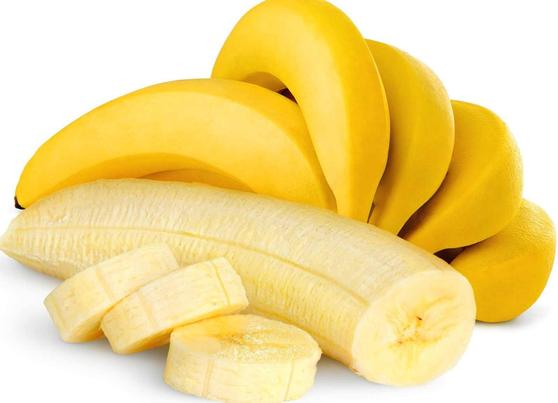banana: (15, 80, 338, 218)
